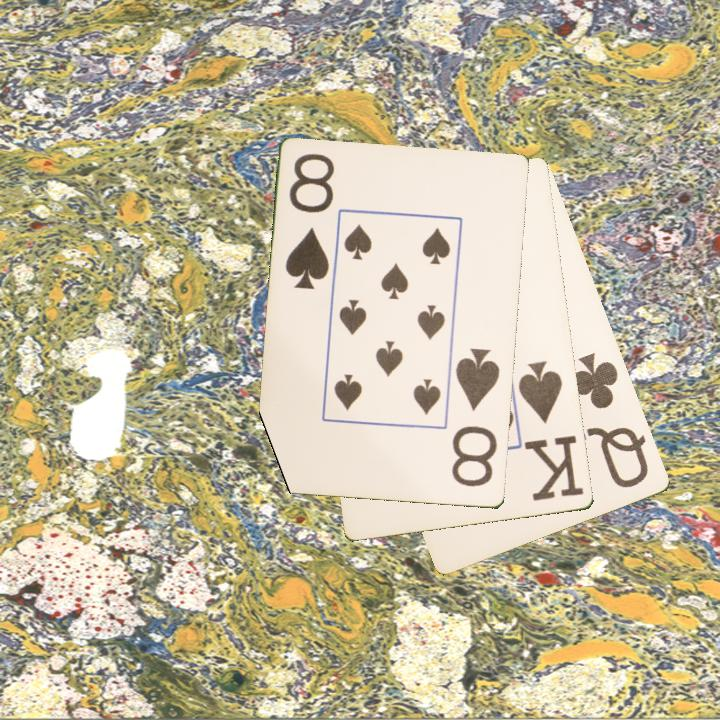8s: (282, 150, 338, 293), (448, 345, 503, 490)
Ks: (515, 357, 587, 504)
Qc: (567, 349, 652, 492)
